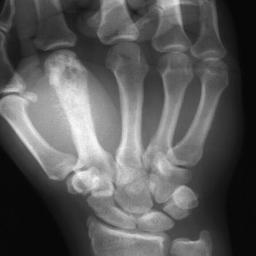cancer: (42, 51, 102, 152)
